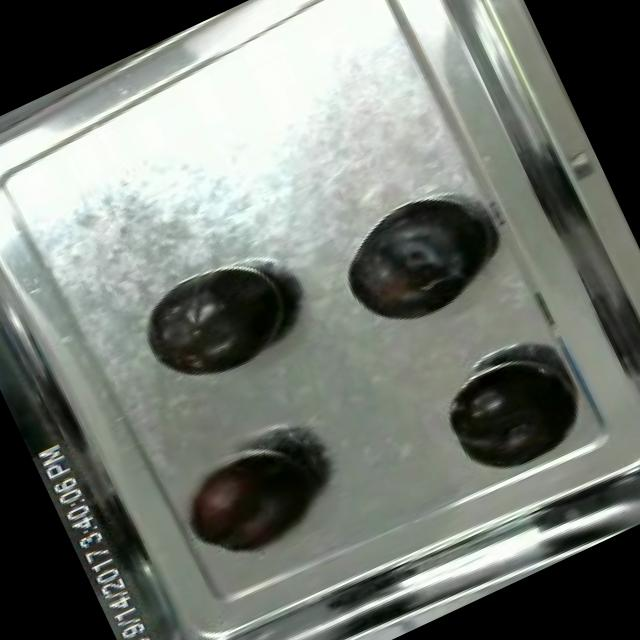Fruit: (322, 179, 510, 347), (128, 241, 312, 402), (168, 429, 334, 573), (428, 344, 590, 490)
